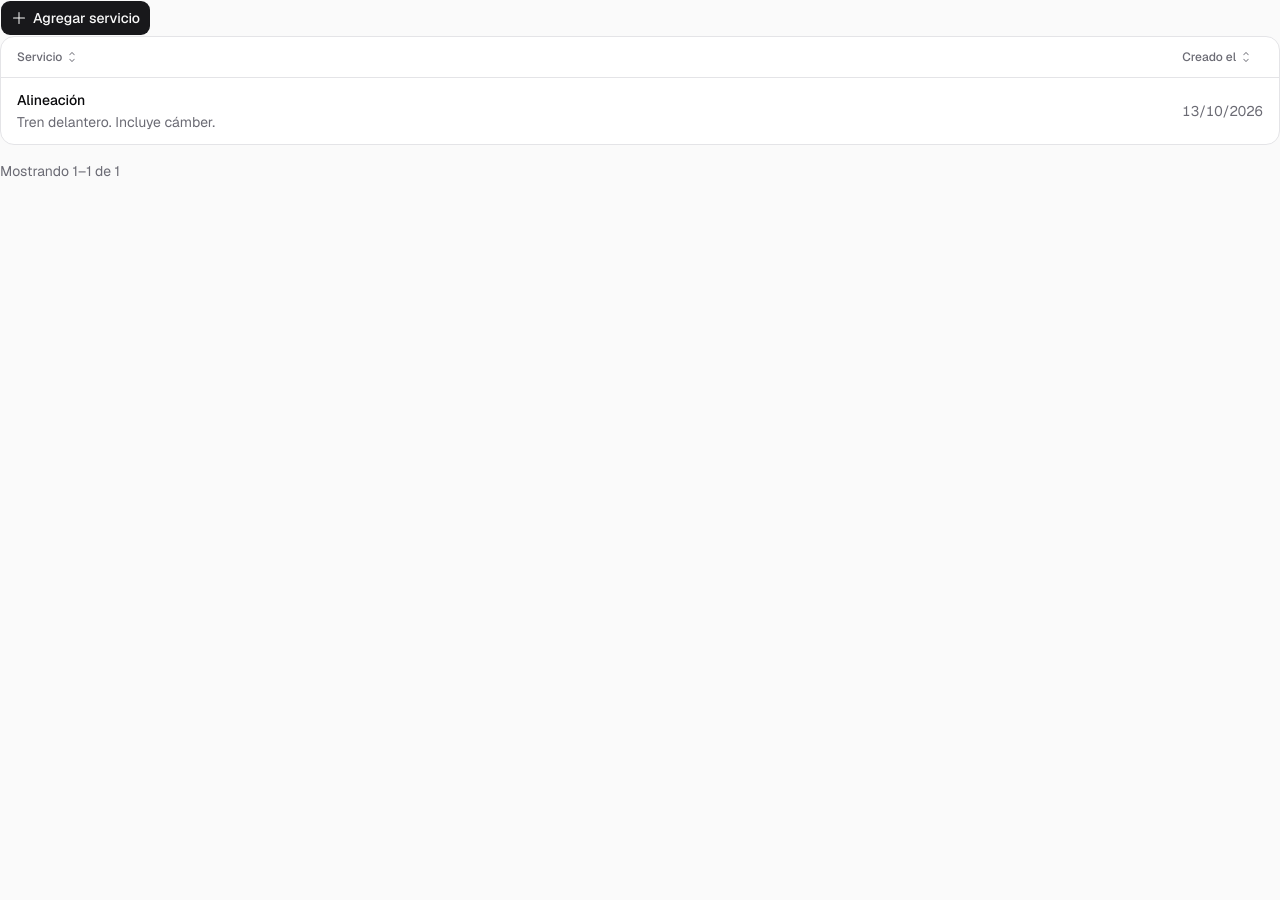
it: ServicesTable › opens the service modal from a row
The image size is (1280, 900).
Click the text "Alineación".
click(51, 100)  # box [1, 77, 1279, 144]
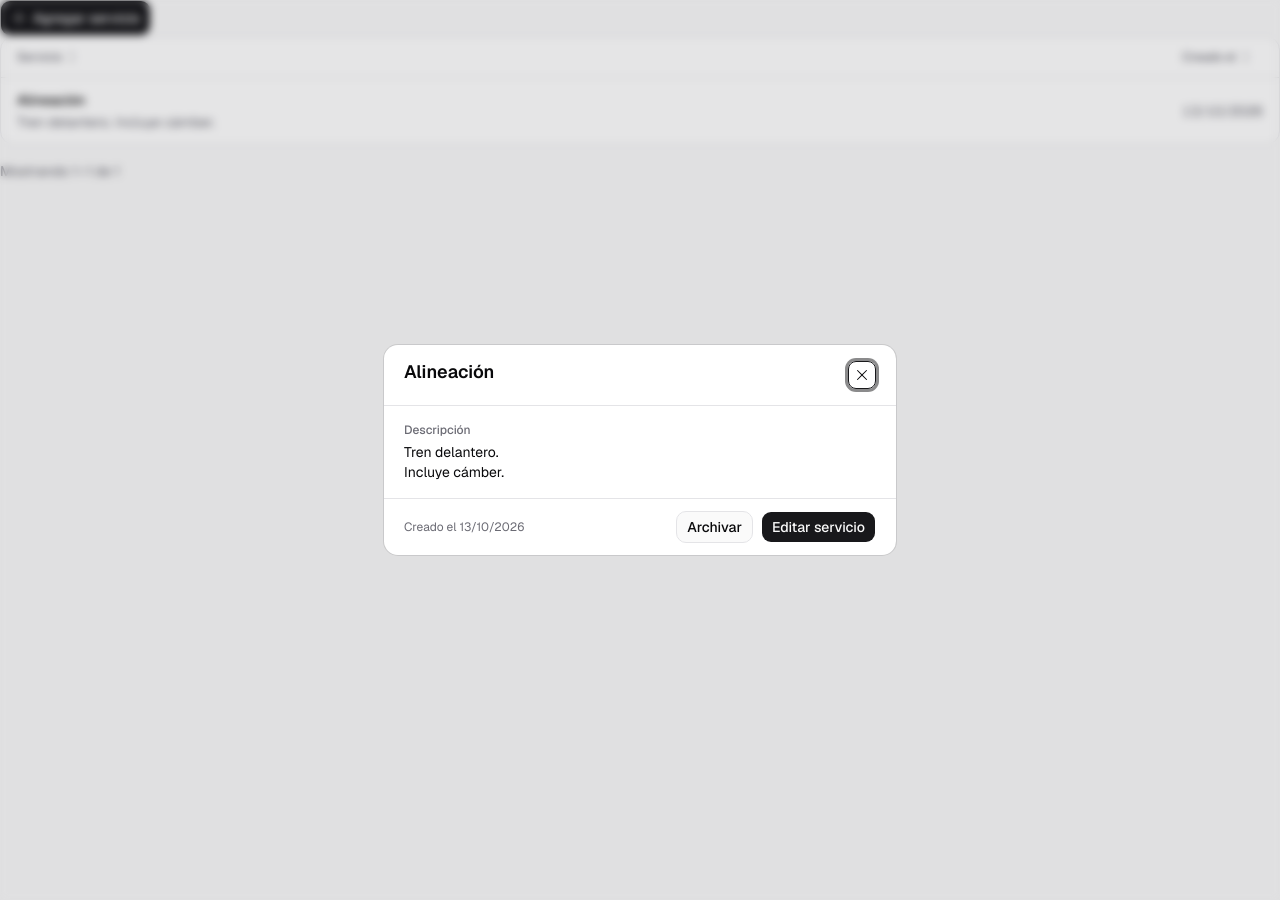
Check: the dialog "Alineación" is shown, box [384, 345, 896, 555]
